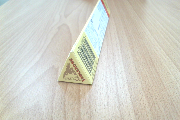Chocolate: (48, 1, 118, 89)
